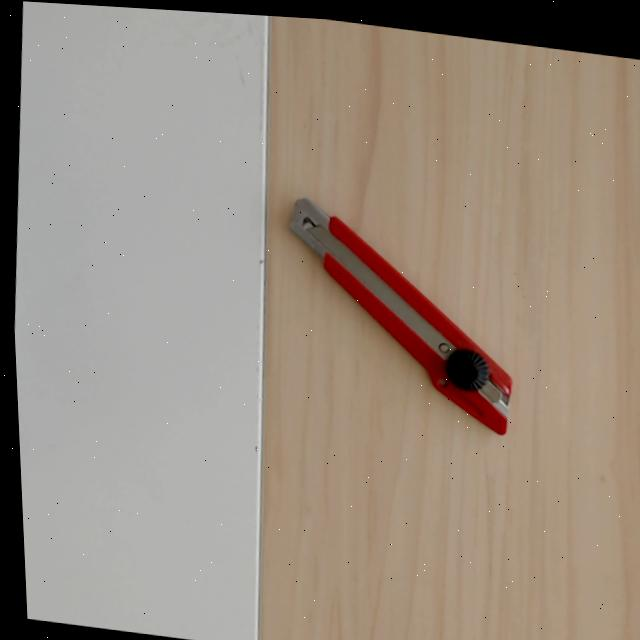Cutter-Besar: (271, 179, 537, 445)
